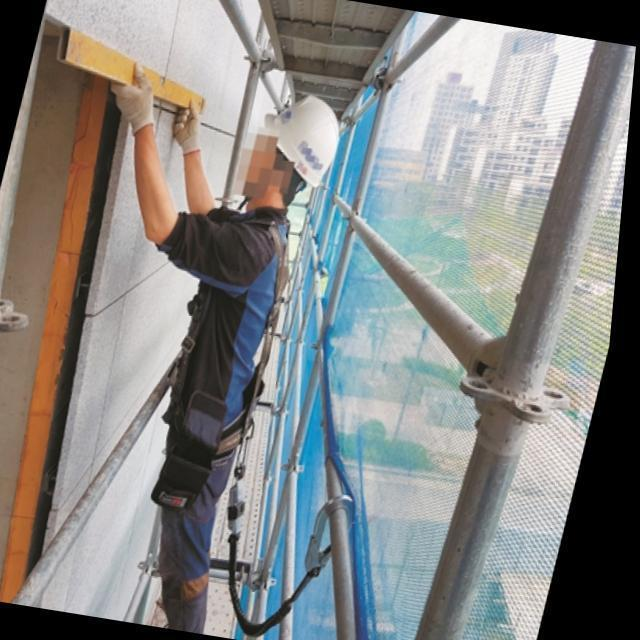Harness: (230, 481, 352, 635)
